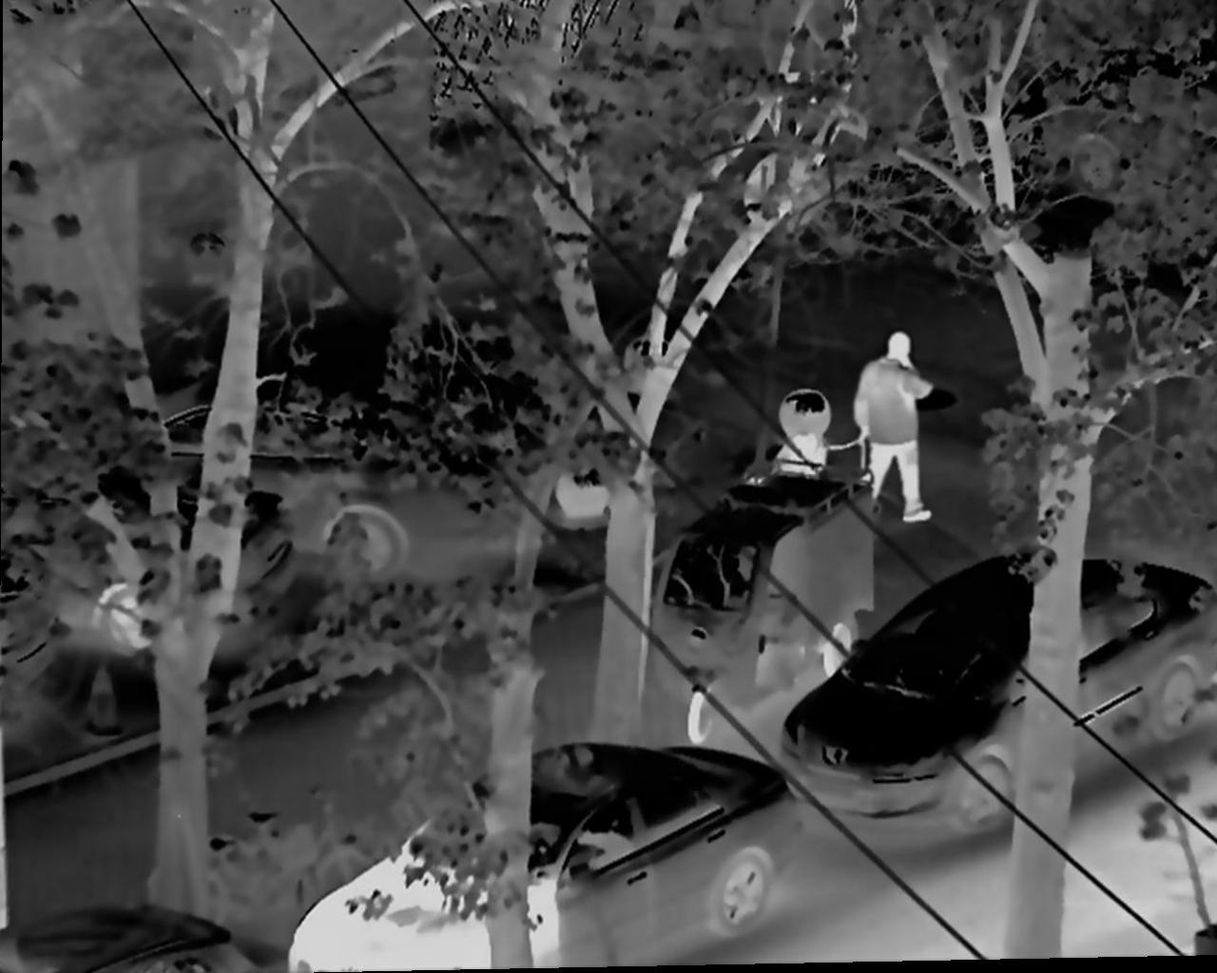person: (856, 328, 943, 525)
